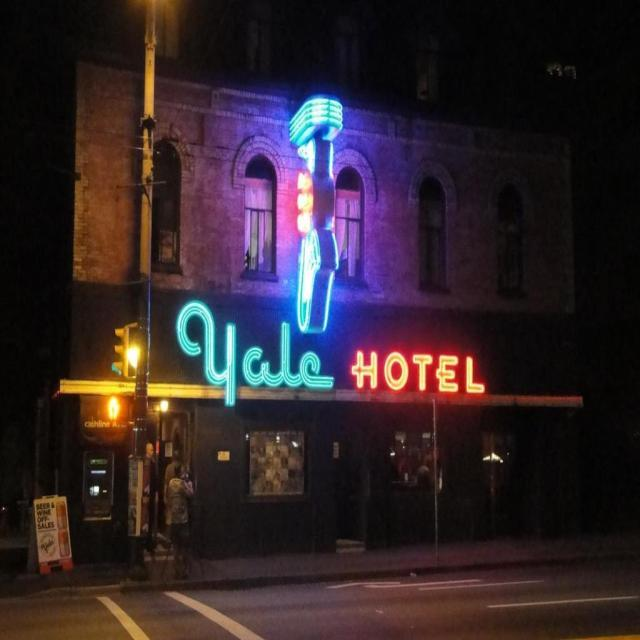off traffic light: (111, 324, 136, 384)
